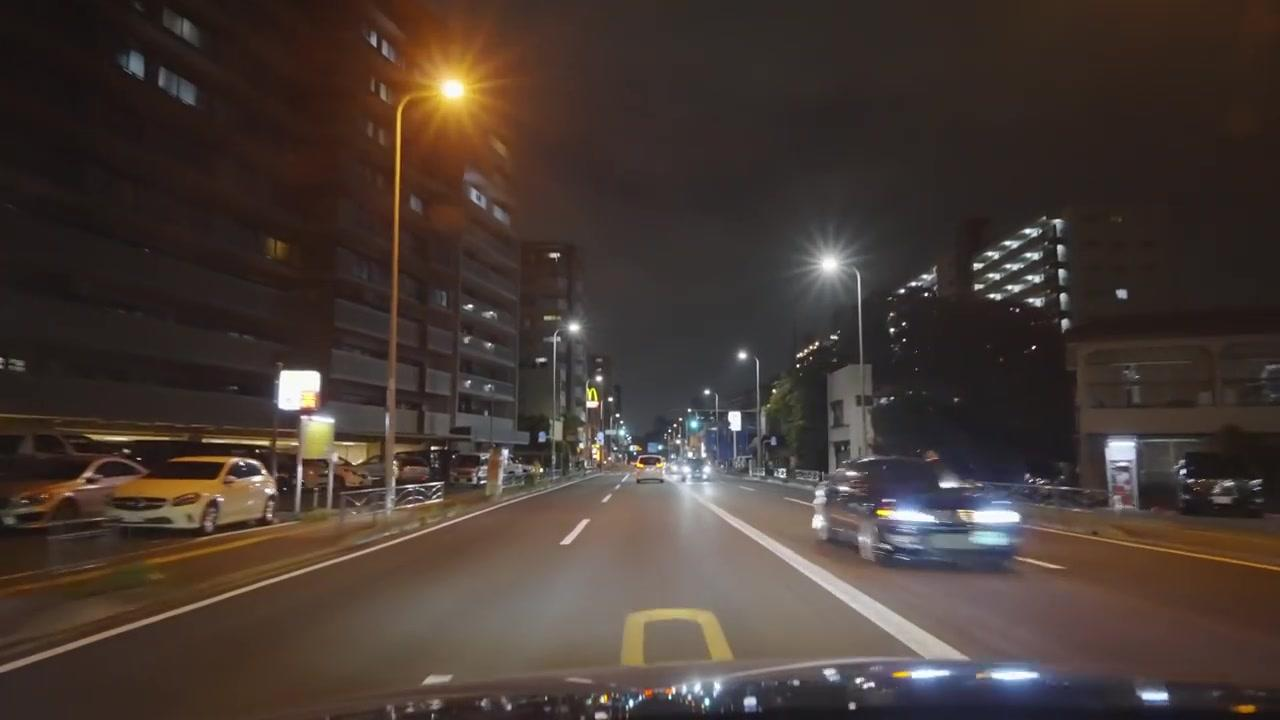car: (810, 456, 1023, 571), (103, 453, 279, 539), (0, 454, 149, 527), (1173, 452, 1265, 517), (0, 431, 108, 480), (282, 456, 370, 491), (353, 456, 429, 486), (448, 452, 488, 484), (635, 454, 666, 482), (690, 464, 711, 481)
traffic light: (687, 414, 702, 435)
